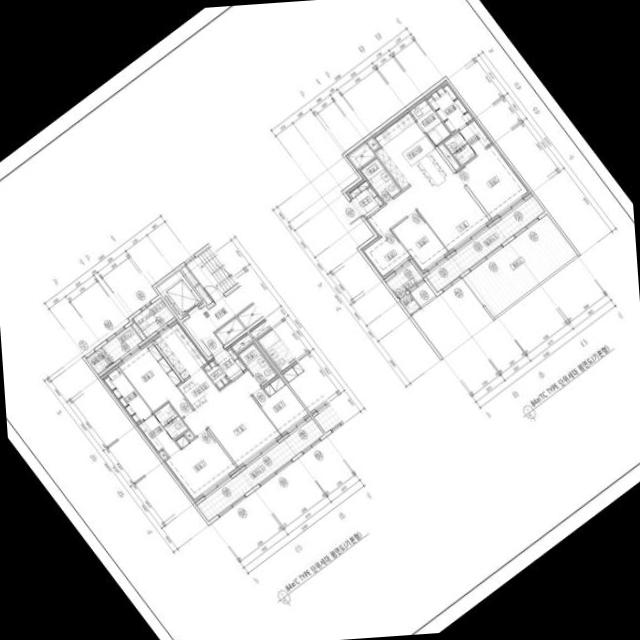background: (0, 0, 640, 640)
space_balconi: (196, 418, 323, 520), (425, 195, 544, 291), (132, 297, 174, 336), (101, 324, 141, 361), (385, 262, 422, 297)
space_bedroom: (117, 339, 193, 416), (456, 144, 528, 219), (163, 429, 237, 501), (391, 209, 449, 271), (252, 374, 309, 435), (363, 229, 411, 277)
space_dressroom: (100, 364, 151, 424), (136, 413, 180, 456)
space_elevator: (155, 269, 202, 319)
space_elevator_hall: (182, 284, 252, 356)
space_front: (348, 179, 383, 216), (213, 345, 246, 379)
space_kitchen: (374, 112, 454, 189), (152, 319, 219, 408)
space_living_room: (367, 173, 490, 252), (182, 369, 281, 467)
space_other: (426, 82, 472, 132), (409, 99, 450, 145), (180, 265, 212, 304), (458, 119, 490, 153), (214, 316, 244, 344), (202, 358, 229, 388), (348, 142, 375, 168), (237, 303, 263, 327), (437, 142, 459, 169), (230, 332, 252, 352), (131, 318, 145, 339), (367, 137, 378, 150), (157, 449, 168, 460), (184, 429, 194, 440)
space_outdoor_room: (85, 347, 112, 373), (399, 293, 419, 314)
space_staircase: (185, 245, 237, 300)
space_toilet: (359, 156, 401, 202), (237, 342, 277, 385), (443, 131, 475, 165), (163, 415, 188, 439), (153, 401, 177, 425)
